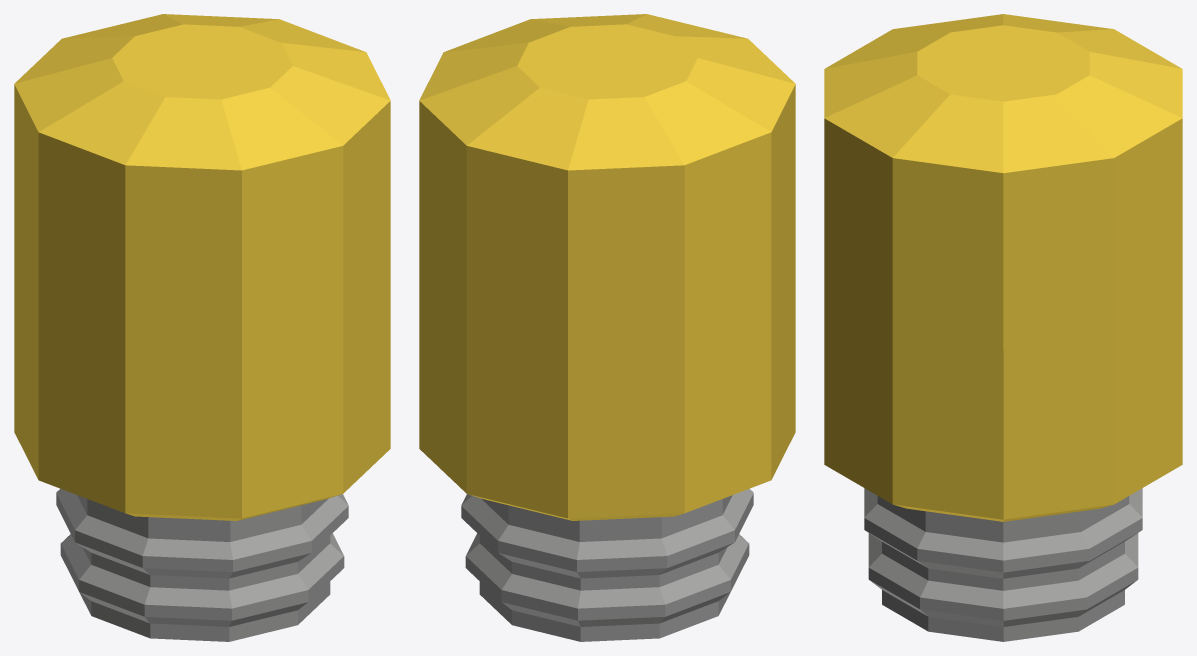
The model's file is Light Bulb.FBX.
3 views of the same model, side by side, from view 1: azimuth 30°, elevation 25°; view 2: azimuth 150°, elevation 25°; view 3: azimuth 270°, elevation 25° (orthographic).
Parts seen in each view (by area): view 1: Light Bulb; view 2: Light Bulb; view 3: Light Bulb.
Part boxes in pixels (bbox=[...]): Light Bulb: bbox=[14, 14, 390, 641]; Light Bulb: bbox=[419, 14, 795, 641]; Light Bulb: bbox=[824, 14, 1182, 641].
Size of the model in its own units: 1.34 by 2.06 by 1.28.
